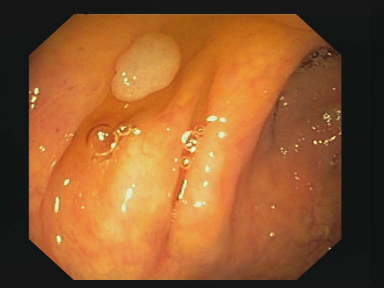polyp: (95, 21, 196, 106)
